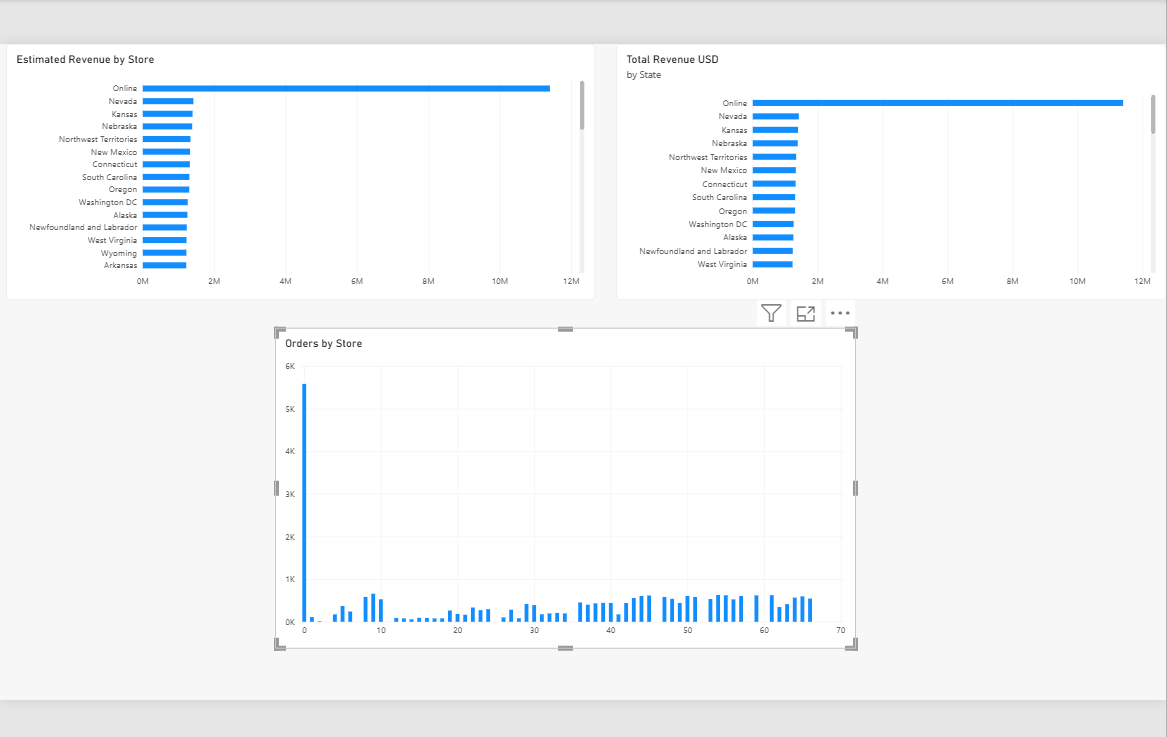

This screenshot's page, from the dashboard's own definition file:
{"tool":"powerbi","page":{"name":"Store & Operations","canvas":[1920,1080],"ordinal":3},"visuals":[{"type":"clusteredBarChart","title":"Estimated Revenue by Store","fields":{"Category":["Sales.StoreKey"],"Y":["Sales.Total Revenue USD"]},"box":[10.3,0,454.9,382.8],"z":0},{"type":"clusteredColumnChart","title":"Orders by Store","fields":{"Category":["Sales.StoreKey"],"Y":["Sales.Total Orders"]},"box":[489.9,0,679.2,382.8],"z":1},{"type":"clusteredBarChart","fields":{"Category":["Sales.StoreKey"],"Y":["Sales.Total Revenue USD"]},"box":[1224.7,0,455,383],"z":2}]}

Visuals, with their boxes on the page's 1920x1080 design canvas (x1, y1, x2, y2). These are canvas units, not pixel positions in the 1167x737 screenshot, which may show the page scaled, cropped or inside an application window:
"Estimated Revenue by Store" clusteredBarChart: x1=10, y1=0, x2=465, y2=383
"Orders by Store" clusteredColumnChart: x1=490, y1=0, x2=1169, y2=383
clusteredBarChart - Sales.StoreKey x Sales.Total Revenue USD: x1=1225, y1=0, x2=1680, y2=383
